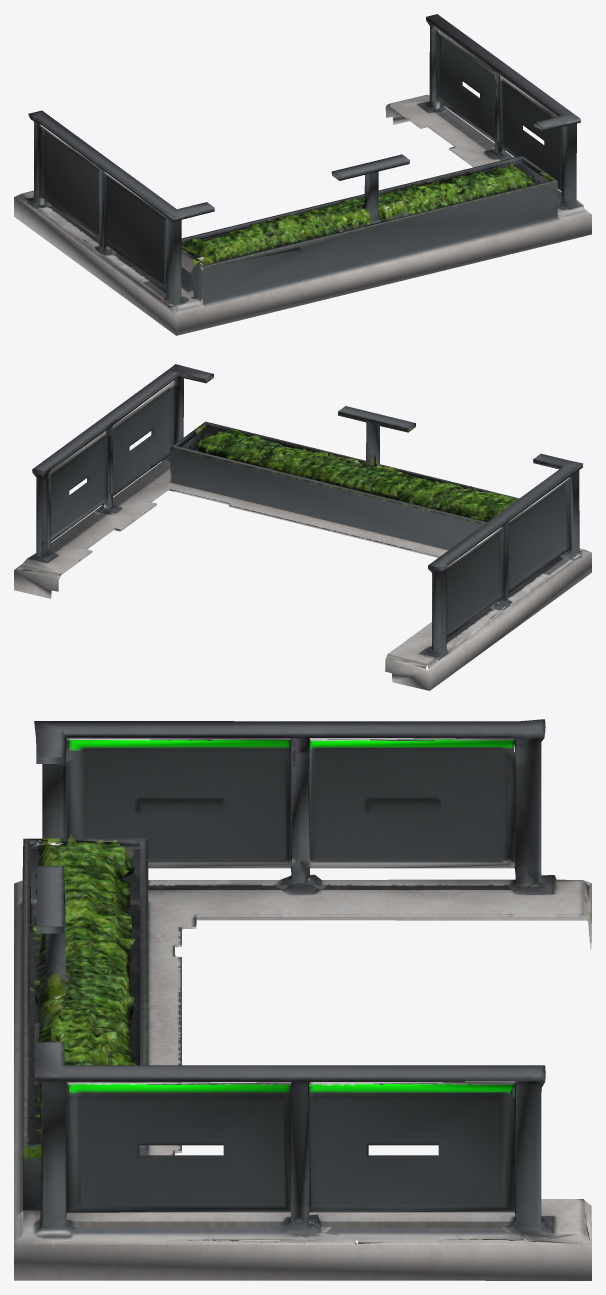
Rendered from balcony.glb.
The picture shows the model from 3 angles, top to bottom: view 1: azimuth 30°, elevation 25°; view 2: azimuth 150°, elevation 25°; view 3: azimuth 270°, elevation 25°; orthographic projection. The views are drawn at different scales.
Parts seen in each view (by area): view 1: low; view 2: low; view 3: low.
Boxes of the visible parts, box(x1,y1,x2,y2) form: low: box(14, 14, 591, 335); low: box(14, 364, 591, 690); low: box(14, 719, 591, 1280).
Bounding box in the file's own units: 1.87 × 0.4874 × 1.27.
Materials: 1 (1 with a texture image).
